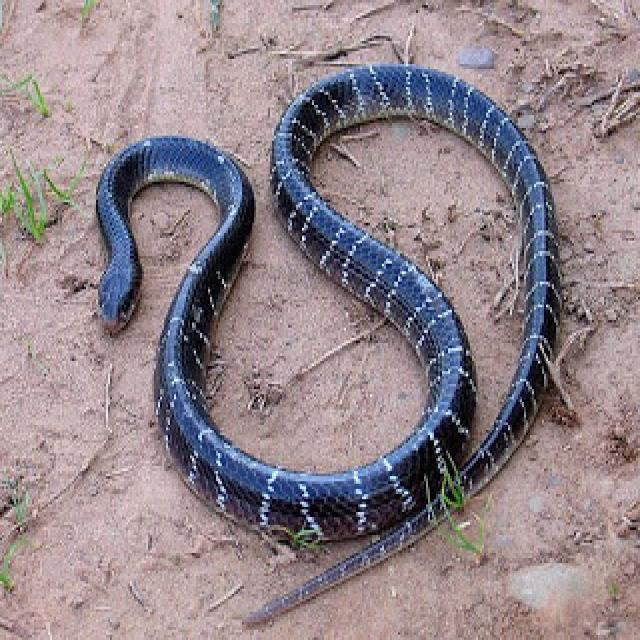Snake: (92, 58, 566, 628)
